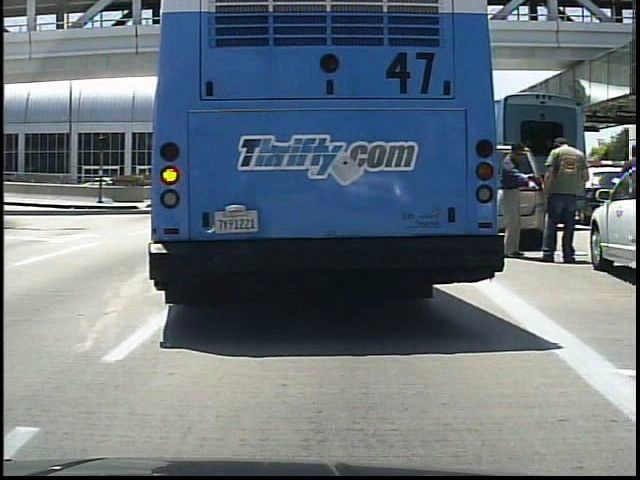person: (538, 129, 583, 272), (503, 137, 537, 263)
